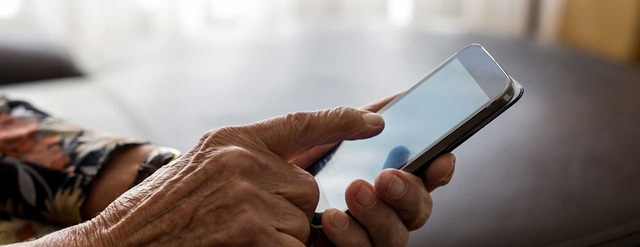Cell Phone: (257, 39, 524, 230)
